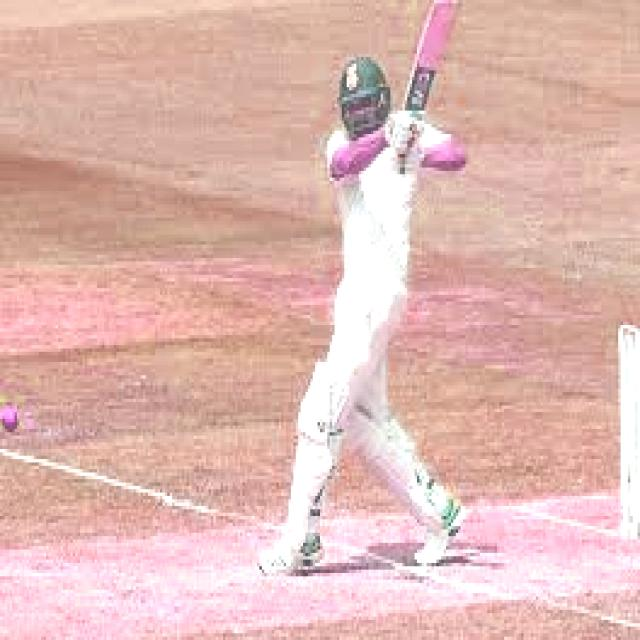toe: (427, 1, 457, 43)
